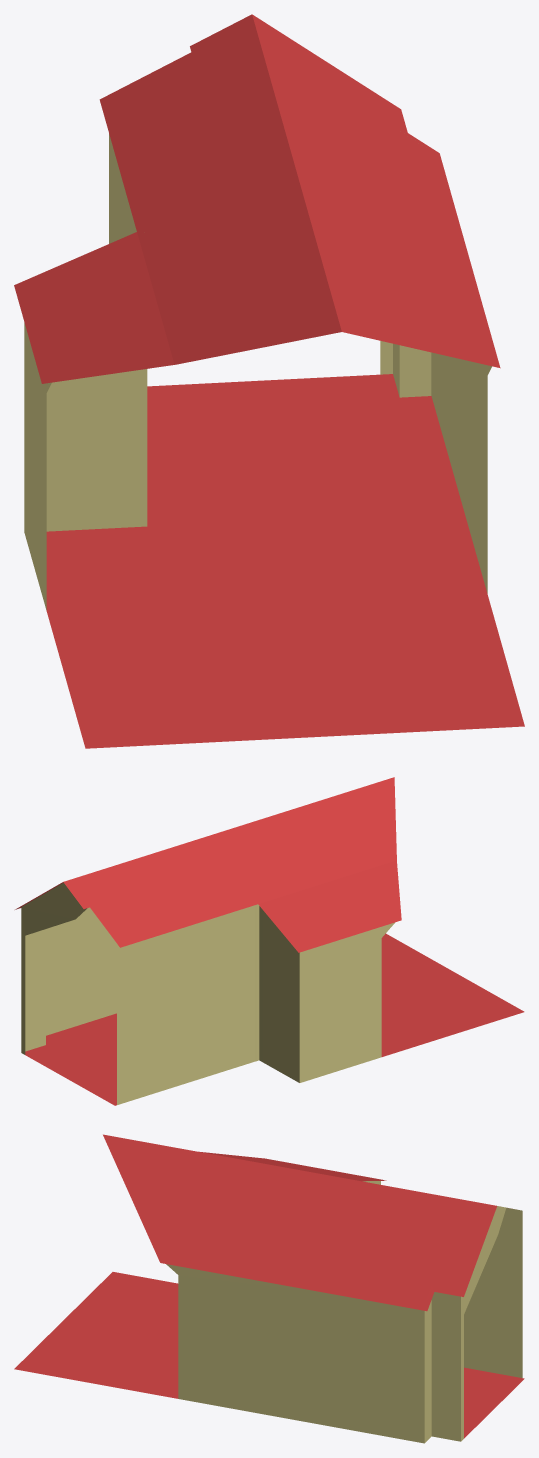
3 views of the same model, one above another, from view 1: azimuth 30°, elevation 25°; view 2: azimuth 150°, elevation 25°; view 3: azimuth 270°, elevation 25° (orthographic). The views are drawn at different scales.
Bounding box in the file's own units: 19.38 × 23.95 × 10.64.
